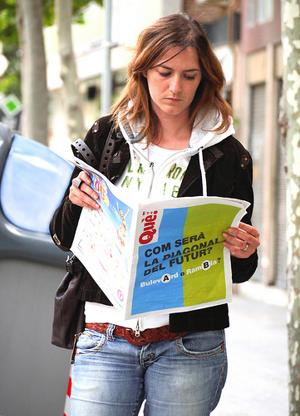person: (49, 17, 262, 416)
